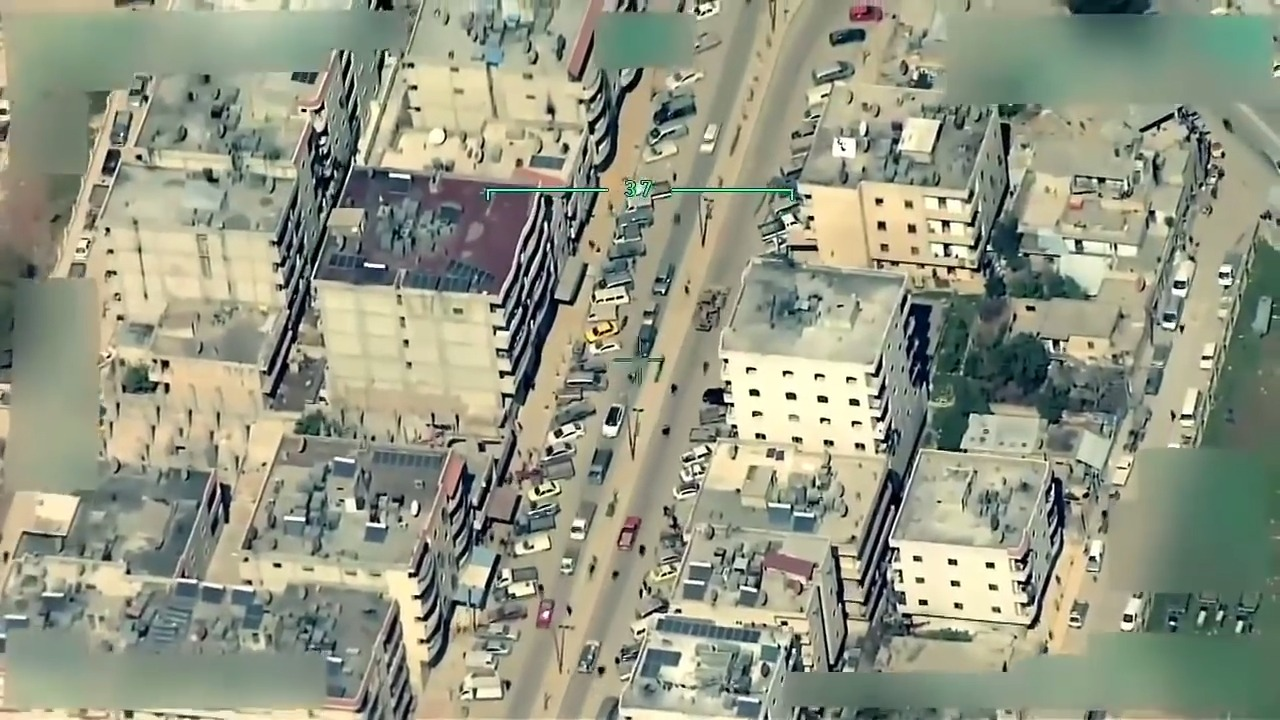arac: (810, 49, 862, 90), (494, 569, 547, 603), (583, 445, 618, 494), (504, 530, 556, 562), (496, 553, 548, 585), (641, 115, 691, 148), (1107, 592, 1150, 630), (1214, 236, 1245, 288), (1172, 384, 1209, 427), (612, 508, 644, 556), (513, 504, 559, 537), (597, 400, 631, 444), (1157, 289, 1188, 336), (579, 298, 627, 328), (654, 90, 695, 124), (519, 475, 562, 507), (580, 332, 630, 359), (1196, 331, 1227, 373), (700, 115, 727, 162), (1172, 256, 1203, 296), (566, 367, 613, 391), (648, 256, 676, 295), (549, 413, 586, 442), (480, 619, 520, 645), (589, 283, 627, 310), (541, 437, 577, 465), (848, 1, 884, 27), (650, 560, 690, 582), (641, 142, 682, 163), (682, 460, 706, 480)
bina: (304, 136, 595, 435), (242, 416, 495, 667), (680, 422, 910, 631), (782, 75, 1024, 269), (719, 251, 933, 455), (883, 437, 1086, 632), (615, 613, 818, 720)
